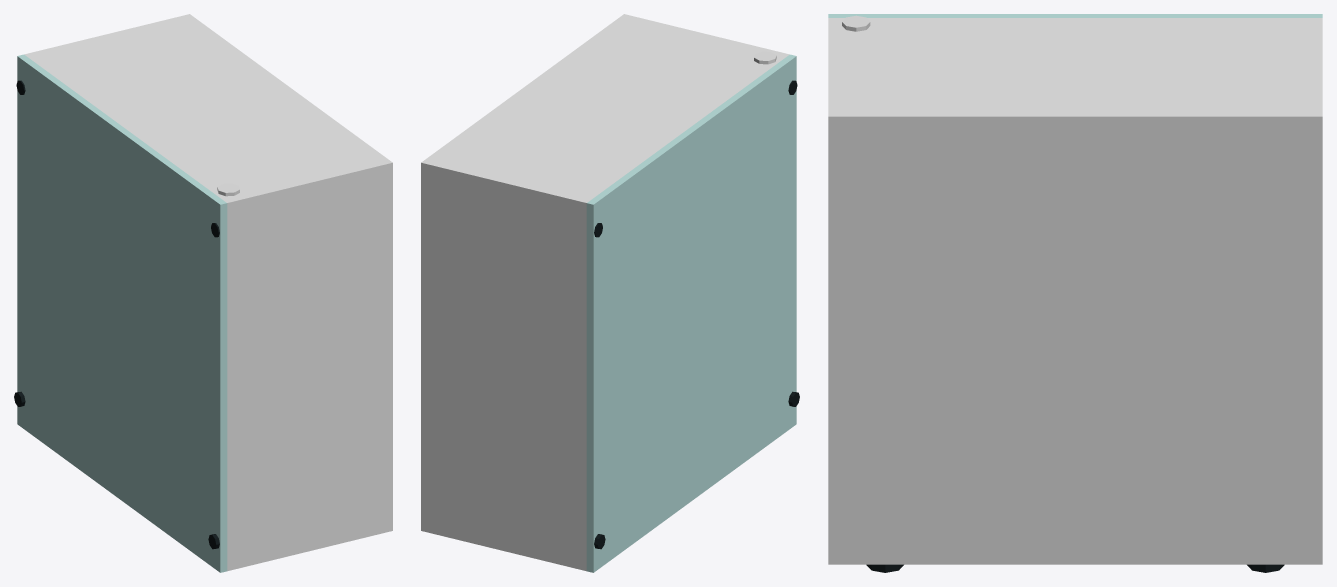
The model's file is SM_Props_PC_02.fbx.
3 views of the same model, side by side, from view 1: azimuth 30°, elevation 25°; view 2: azimuth 150°, elevation 25°; view 3: azimuth 270°, elevation 25° (orthographic). The views are drawn at different scales.
Visible parts, largest first — view 1: SM_Props_PC_02; view 2: SM_Props_PC_02; view 3: SM_Props_PC_02.
Part boxes in pixels (box(x1,y1,x2,y2)): SM_Props_PC_02: box(14, 14, 392, 572); SM_Props_PC_02: box(421, 14, 799, 572); SM_Props_PC_02: box(828, 14, 1322, 572).
Bounding box in the file's own units: 0.2605 × 0.5447 × 0.52.
